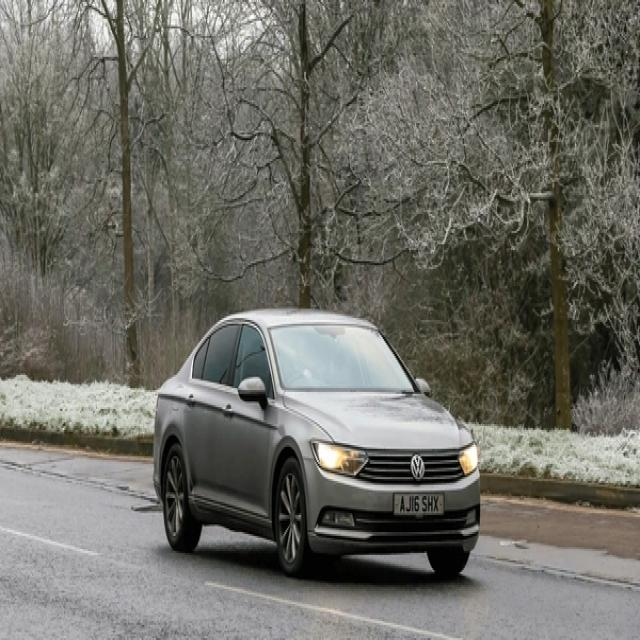wolksvogen: (408, 453, 428, 485)
